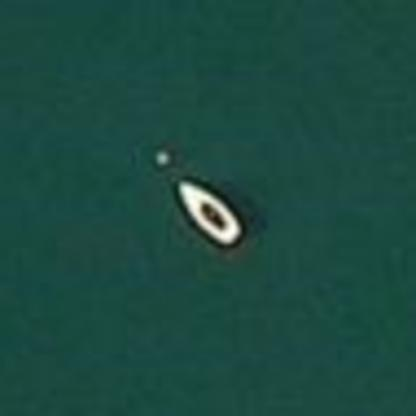ship: (169, 172, 245, 251)
